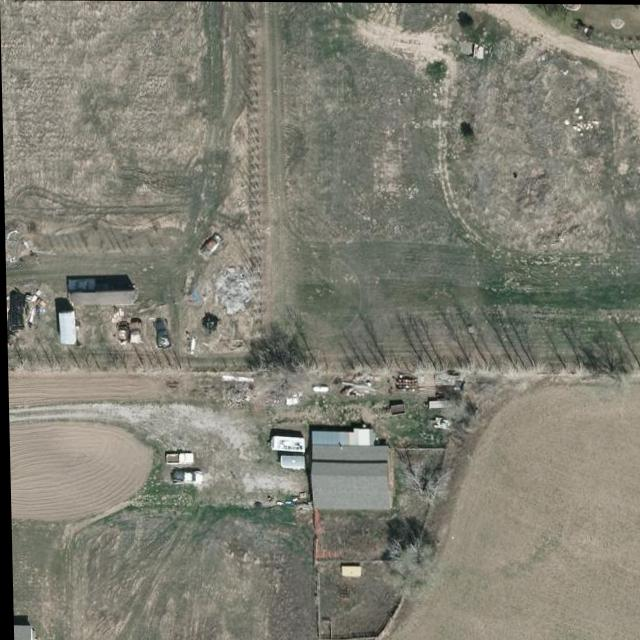vehicle: (197, 232, 225, 259), (153, 317, 171, 349), (169, 468, 201, 486), (113, 320, 130, 345), (66, 278, 95, 292), (128, 320, 143, 346), (163, 454, 193, 464)
